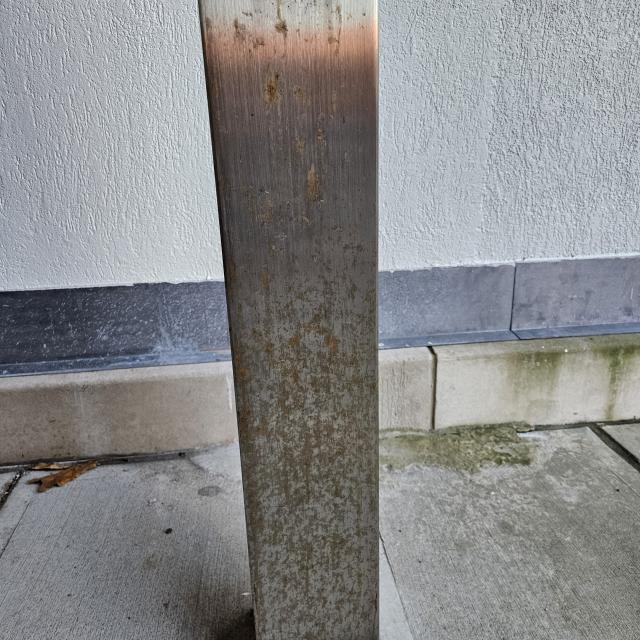Uniform Corrosion: (203, 1, 382, 640)
